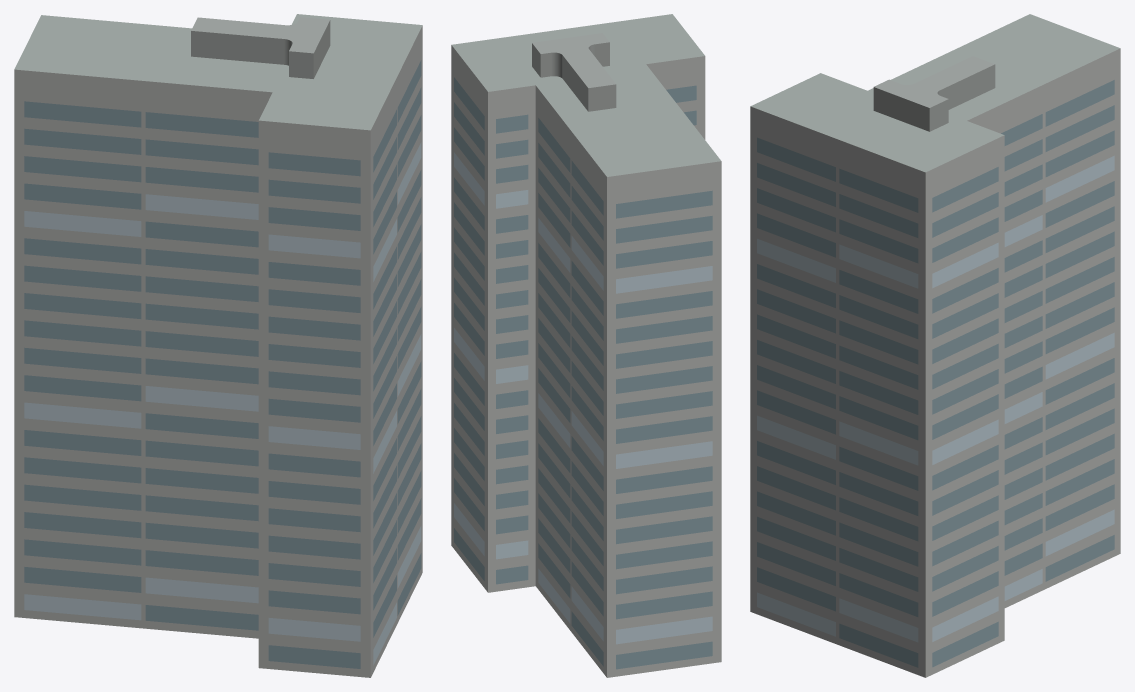
Rendered from fallback-mapo-grang-xi-107.glb.
3 views of the same model, side by side, from view 1: azimuth 30°, elevation 25°; view 2: azimuth 150°, elevation 25°; view 3: azimuth 270°, elevation 25° (orthographic). The views are drawn at different scales.
Parts seen in each view (by area): view 1: fallback-mapo-grang-xi-107; view 2: fallback-mapo-grang-xi-107; view 3: fallback-mapo-grang-xi-107.
Part boxes in pixels (<box>): fallback-mapo-grang-xi-107: <box>14,14,422,677</box>; fallback-mapo-grang-xi-107: <box>451,14,721,677</box>; fallback-mapo-grang-xi-107: <box>750,14,1120,677</box>.
Size of the model in its own units: 32.76 by 51 by 32.34.
